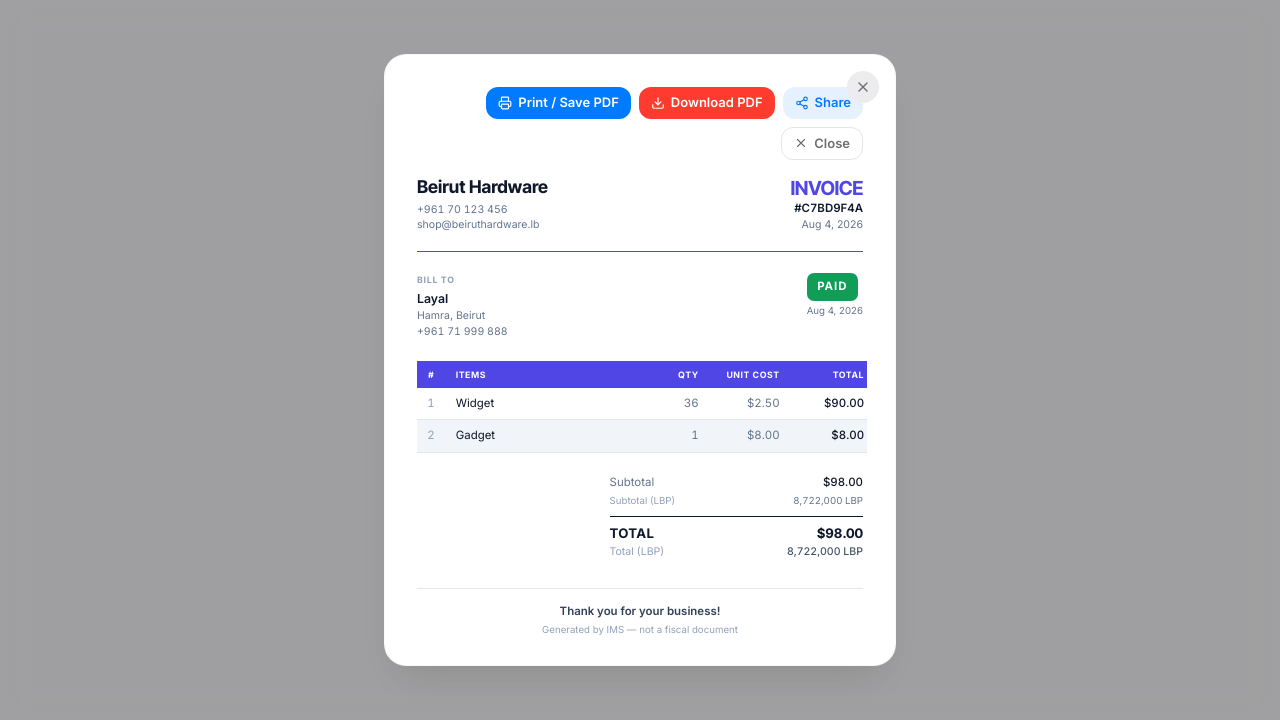
Invoice sharing › holds the send targets until the link has arrived
Click the button "Share" at coordinates (823, 103), box [782,87,863,118]
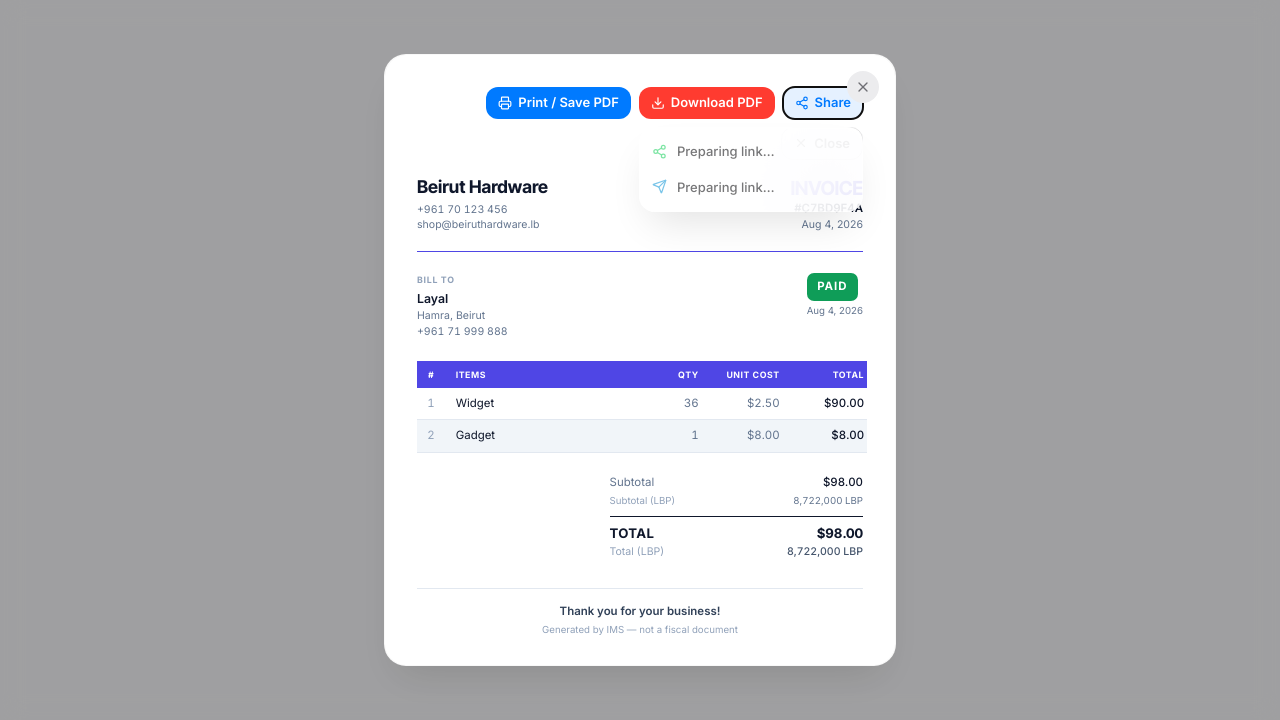
Check: the number of menu items "Preparing link…" is 2, box [640,134,862,169]; [640,169,862,204]
Check: the 1st menu item "Preparing link…" is disabled, box [640,134,862,169]
Check: the 2nd menu item "Preparing link…" is disabled, box [640,169,862,204]
